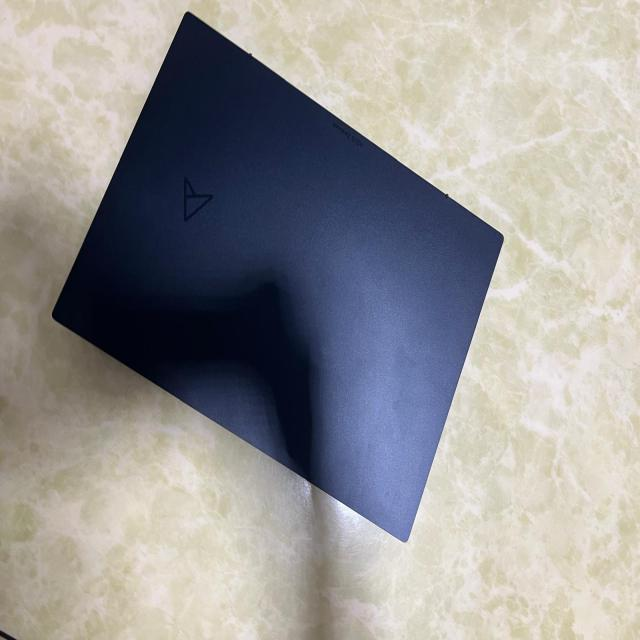laptop: (50, 10, 504, 543)
